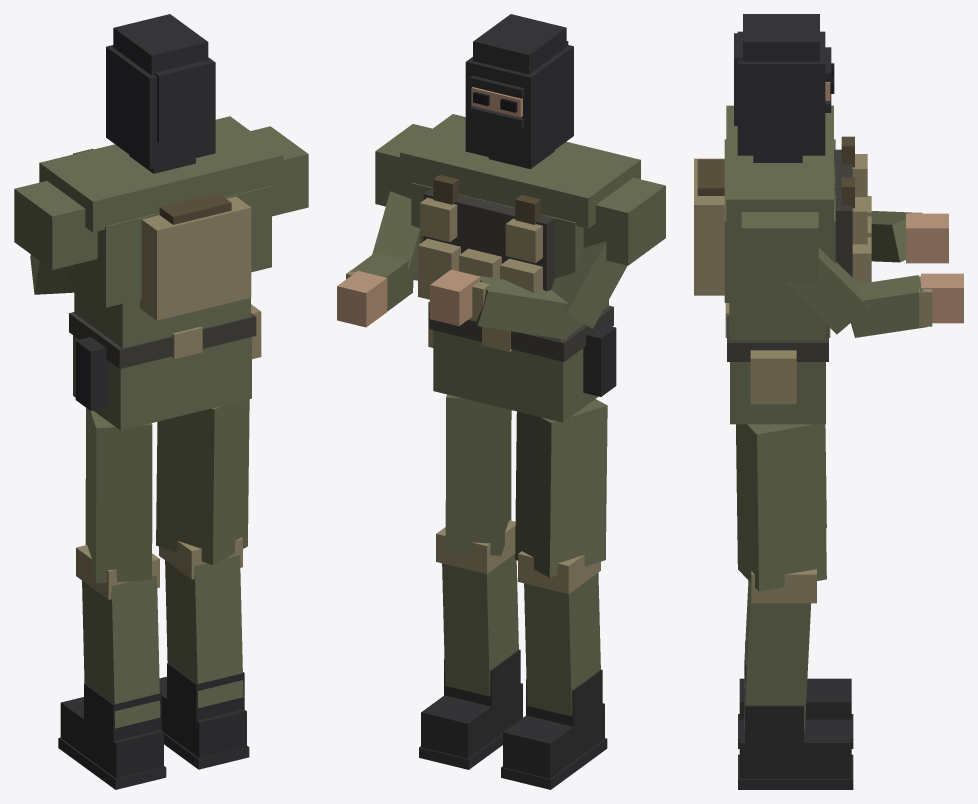
Rendered from terrorist.glb.
3 renders of one model, left to right at view 1: azimuth 30°, elevation 25°; view 2: azimuth 150°, elevation 25°; view 3: azimuth 270°, elevation 25°, orthographic. The views are drawn at different scales.
Parts seen in each view (by area): view 1: torso, legRight, legLeft, hips, head, armLeft, armRight; view 2: legLeft, legRight, torso, armLeft, hips, head, armRight; view 3: legRight, torso, armRight, head, hips, armLeft, legLeft.
Boxes of the visible parts, left/top/right/bottom form: torso: left=39, top=116, right=283, bottom=348; legRight: left=156, top=399, right=249, bottom=769; legLeft: left=58, top=408, right=166, bottom=789; hips: left=69, top=304, right=261, bottom=430; head: left=106, top=14, right=215, bottom=169; armLeft: left=14, top=181, right=97, bottom=294; armRight: left=251, top=126, right=308, bottom=216; legLeft: left=501, top=399, right=607, bottom=789; legRight: left=419, top=394, right=522, bottom=769; torso: left=400, top=114, right=640, bottom=341; armLeft: left=430, top=177, right=665, bottom=339; hips: left=428, top=301, right=616, bottom=422; head: left=465, top=14, right=573, bottom=167; armRight: left=337, top=124, right=431, bottom=327; legRight: left=736, top=424, right=853, bottom=789; torso: left=694, top=105, right=871, bottom=340; armRight: left=741, top=212, right=963, bottom=337; head: left=734, top=14, right=834, bottom=155; hips: left=725, top=303, right=830, bottom=424; armLeft: left=871, top=211, right=948, bottom=263; legLeft: left=738, top=424, right=853, bottom=748.
Bounding box in the file's own units: 0.679 × 1.83 × 0.614.
